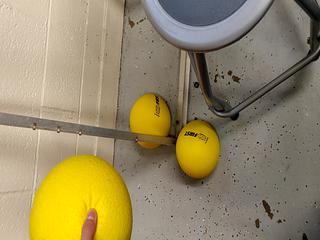power_cell: (27, 146, 133, 239), (174, 113, 224, 182), (127, 86, 177, 155)
